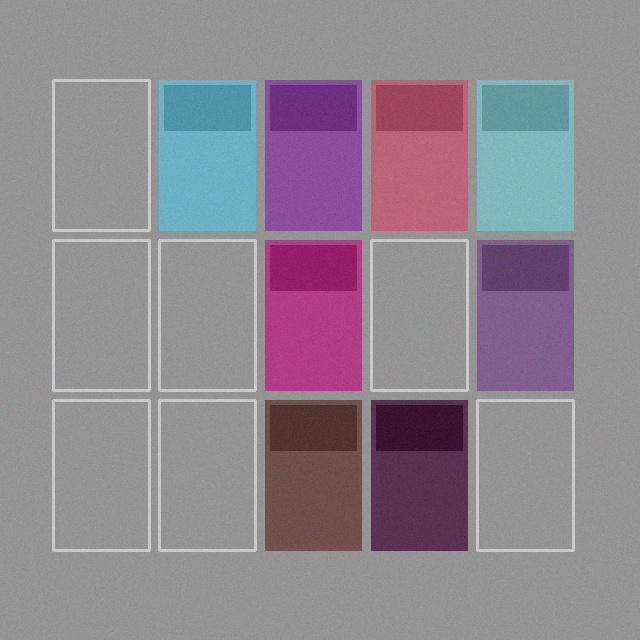space-empty: (53, 80, 149, 230), (53, 240, 149, 390), (159, 240, 255, 390), (371, 240, 467, 390), (53, 400, 149, 550), (159, 400, 255, 550), (477, 400, 573, 550)
space-occupied: (159, 80, 255, 230), (265, 80, 361, 230), (371, 80, 467, 230), (477, 80, 573, 230), (265, 240, 361, 390), (477, 240, 573, 390), (265, 400, 361, 550), (371, 400, 467, 550)
